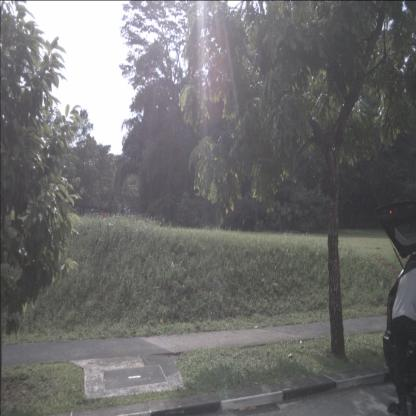human-pedestrian-adult: (392, 267, 416, 416)
vehicle-car: (372, 198, 416, 394)
